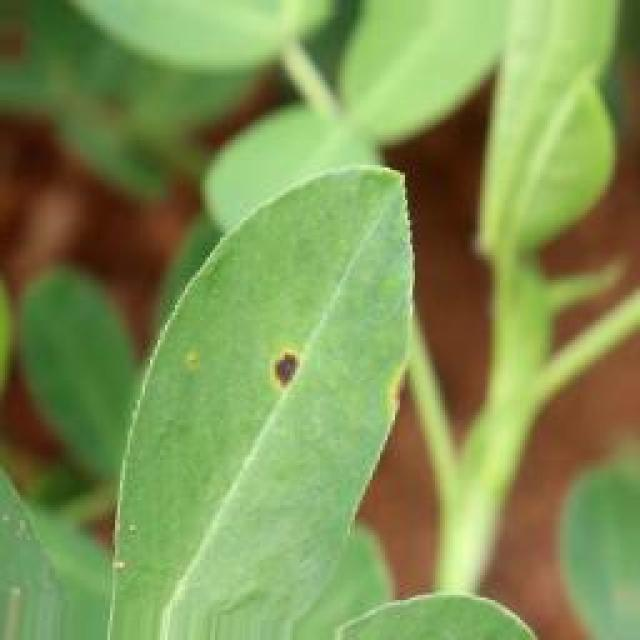Sigatoka: (255, 343, 315, 405), (355, 356, 411, 420)
